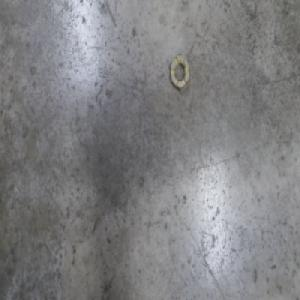Nut: (169, 51, 190, 92)
